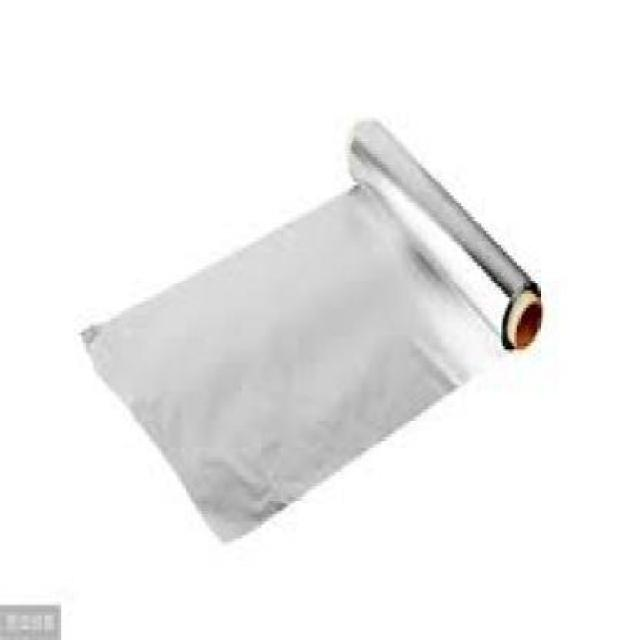metal: (77, 112, 540, 540)
